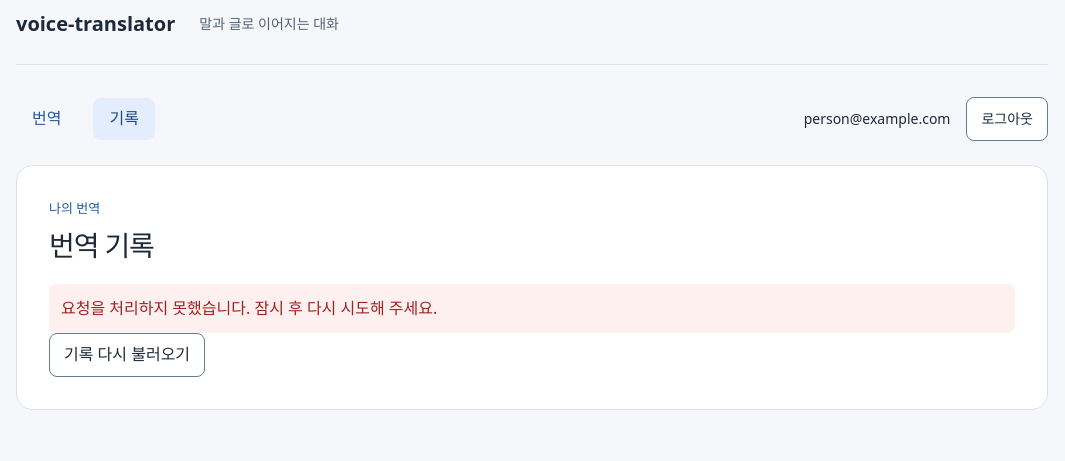
it: shows empty history and retries a failed list request
The width and height of the screenshot is (1065, 461).
Expected: the message "요청을 처리하지 못했습니다. 잠시 후 다시 시도해 주세요." is shown, [49,284,1015,333]
Click the button "기록 다시 불러오기". click: (127, 355)
box: [49,333,205,377]
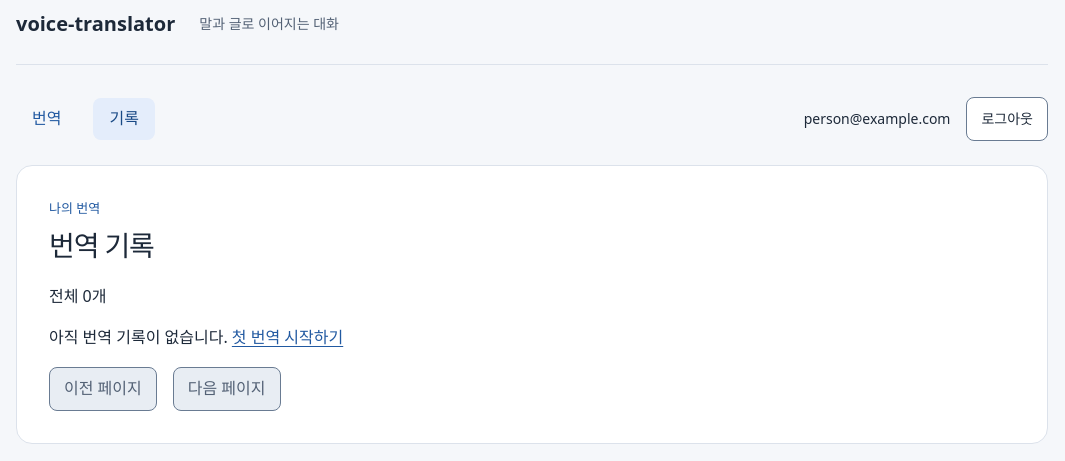
Now the text "아직 번역 기록이 없습니다. 첫 번역 시작하기" is shown, box [49,326,343,348]
Now the button "다음 페이지" is disabled, box [173,367,281,411]
